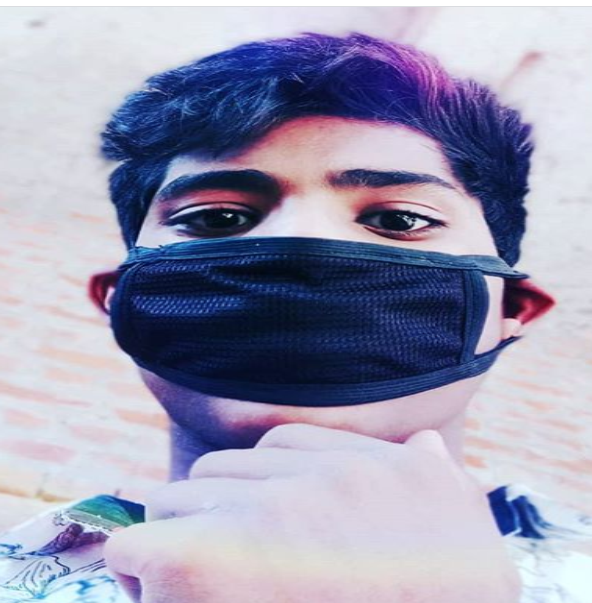mask_weared_incorrect: (84, 34, 549, 457)
